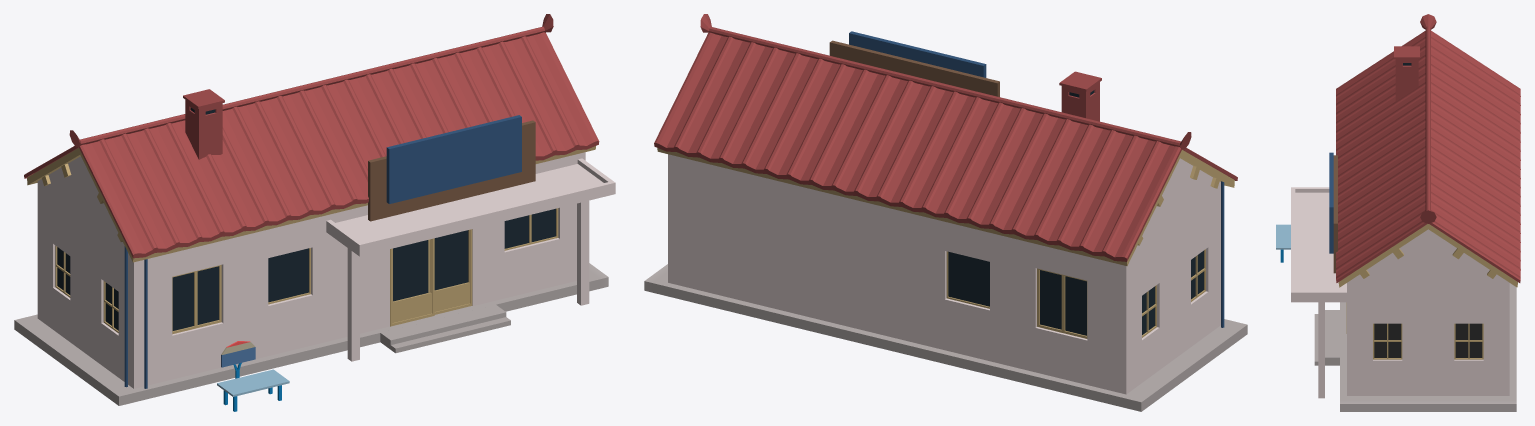
Rendered from Countryhouse005.fbx.
3 renders of one model, left to right at view 1: azimuth 30°, elevation 25°; view 2: azimuth 150°, elevation 25°; view 3: azimuth 270°, elevation 25°, orthographic. The views are drawn at different scales.
Parts seen in each view (by area): view 1: Countryhouse05, Prop01; view 2: Countryhouse05; view 3: Countryhouse05, Prop01.
Part boxes in pixels (box(x1,y1,x2,y2)): Countryhouse05: box(14, 14, 615, 405); Prop01: box(217, 341, 289, 411); Countryhouse05: box(644, 14, 1247, 411); Countryhouse05: box(1291, 14, 1520, 411); Prop01: box(1276, 224, 1290, 262).
Bounding box in the file's own units: 349 × 179 × 169.
